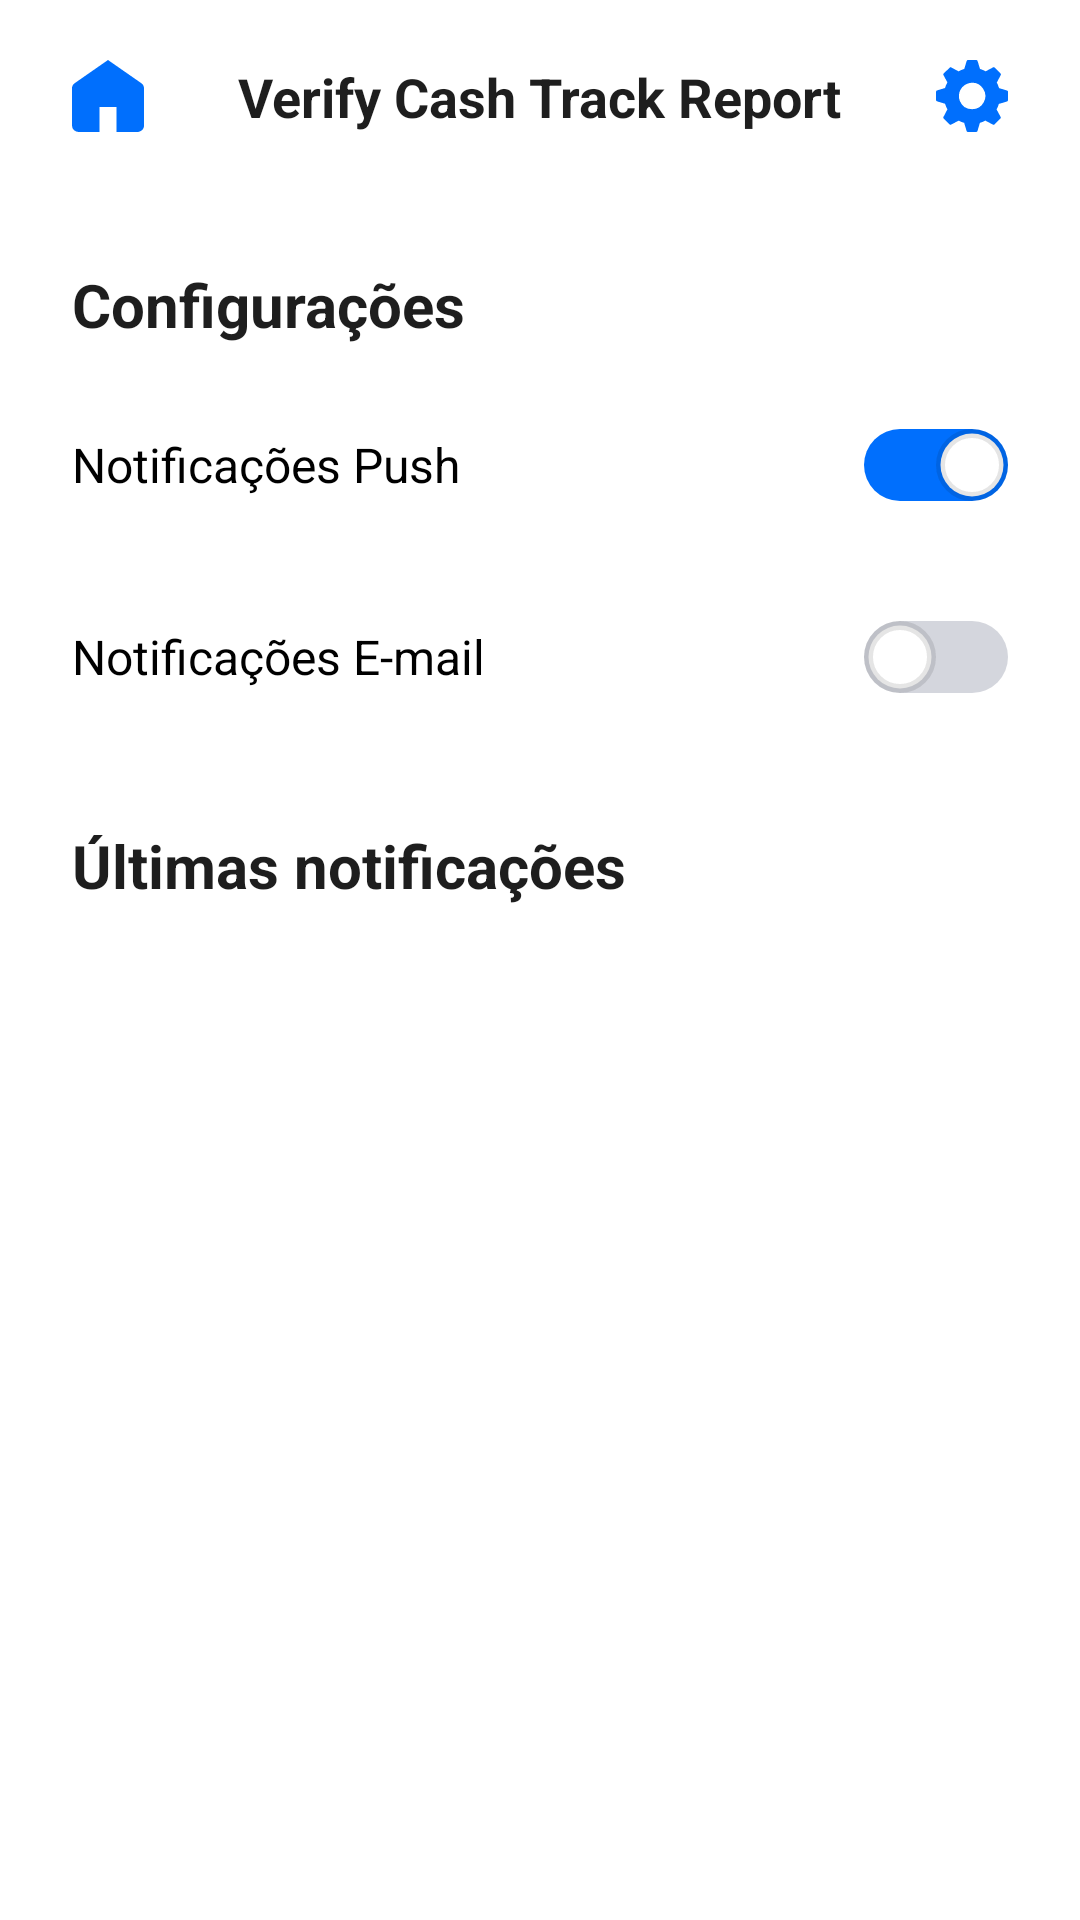

Icons on this 1080w x 1920h Android screen, each with the point to tap as point (x, y):
Configurações: point (972, 96)
Home: point (108, 96)
